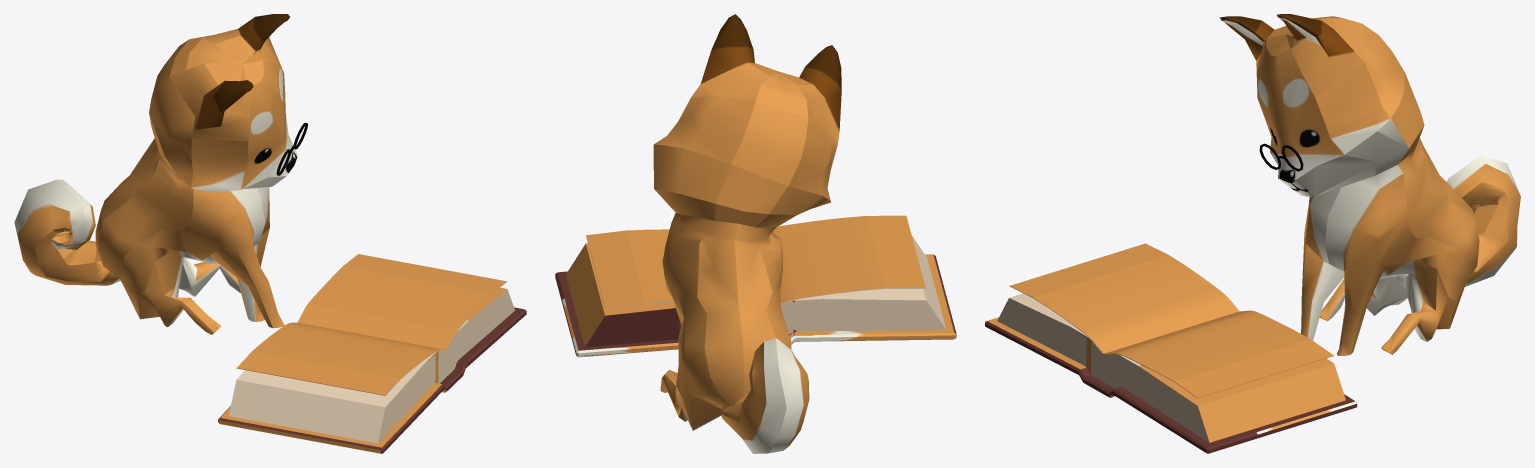
The model's file is book_frame21.obj.
The picture shows the model from 3 angles, left to right: view 1: azimuth 30°, elevation 25°; view 2: azimuth 150°, elevation 25°; view 3: azimuth 270°, elevation 25°; orthographic projection. The views are drawn at different scales.
Parts seen in each view (by area): view 1: StidyGlasses_Computer_Sitting:Sitting:newRigging:BodzL1, polySurface1; view 2: StidyGlasses_Computer_Sitting:Sitting:newRigging:BodzL1, polySurface1; view 3: StidyGlasses_Computer_Sitting:Sitting:newRigging:BodzL1, polySurface1.
Boxes of the visible parts, x1,y1,x2,y2 form: StidyGlasses_Computer_Sitting:Sitting:newRigging:BodzL1: (14,14,297,334); polySurface1: (218,254,526,453); StidyGlasses_Computer_Sitting:Sitting:newRigging:BodzL1: (653,14,841,453); polySurface1: (555,215,956,357); StidyGlasses_Computer_Sitting:Sitting:newRigging:BodzL1: (1220,14,1520,355); polySurface1: (985,243,1357,453).
Size of the model in its own units: 9.18 by 7.71 by 11.01.
4 materials, 4 textured.
